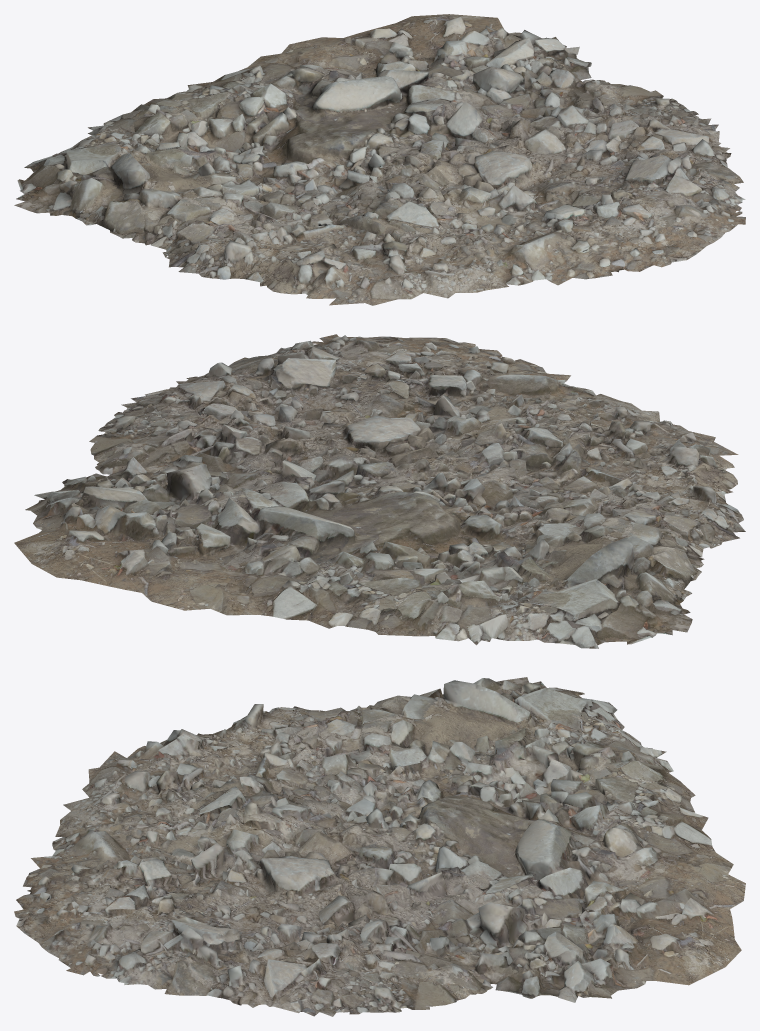
The model's file is sm_Ground_01_04.fbx.
The picture shows the model from 3 angles, top to bottom: view 1: azimuth 30°, elevation 25°; view 2: azimuth 150°, elevation 25°; view 3: azimuth 270°, elevation 25°; orthographic projection. The views are drawn at different scales.
Parts seen in each view (by area): view 1: sm_Ground_01_04_LOD0; view 2: sm_Ground_01_04_LOD0; view 3: sm_Ground_01_04_LOD0.
Boxes of the visible parts, left/top/right/bottom form: sm_Ground_01_04_LOD0: left=14, top=14, right=745, bottom=305; sm_Ground_01_04_LOD0: left=14, top=334, right=745, bottom=648; sm_Ground_01_04_LOD0: left=14, top=677, right=745, bottom=1016.
Size of the model in its own units: 265 by 241 by 18.13.
